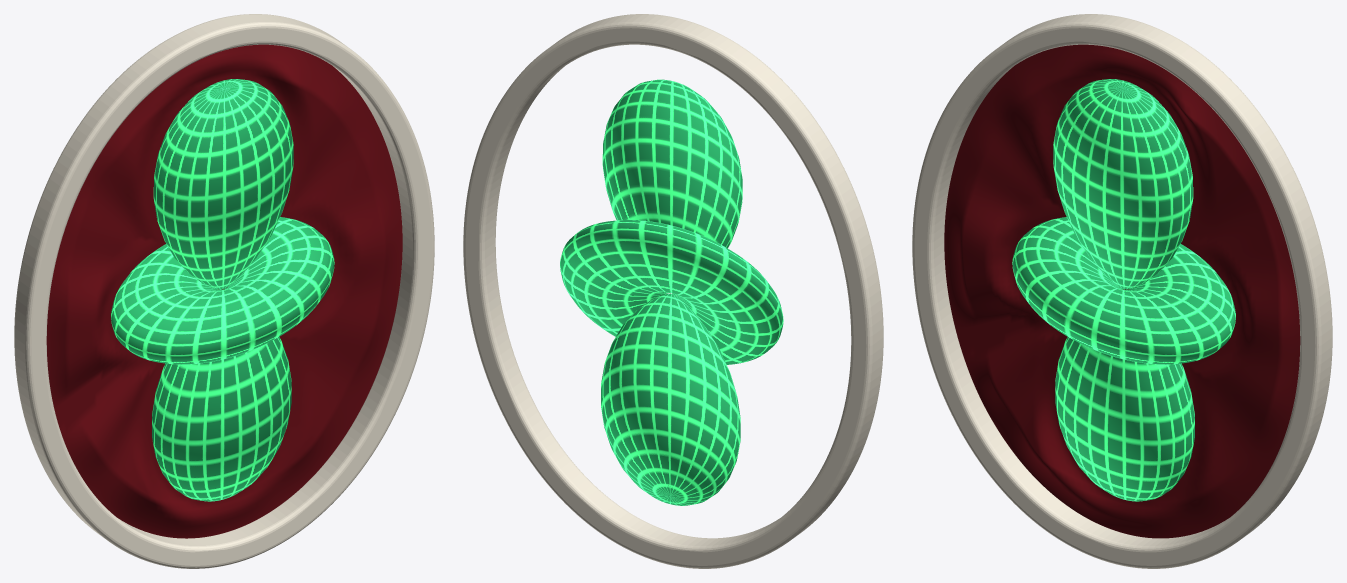
Rendered from kelvane.glb.
The picture shows the model from 3 angles, left to right: view 1: azimuth 30°, elevation 25°; view 2: azimuth 150°, elevation 25°; view 3: azimuth 330°, elevation 25°; orthographic projection.
Visible parts, largest first — view 1: emblem_kelvane; view 2: emblem_kelvane; view 3: emblem_kelvane.
Part boxes in pixels (box(x1,y1,x2,y2)): emblem_kelvane: box(14, 14, 434, 568); emblem_kelvane: box(463, 14, 883, 568); emblem_kelvane: box(912, 14, 1332, 568).
Size of the model in its own units: 0.897 by 1.13 by 0.0575.
Materials: 3 (1 with a texture image).
